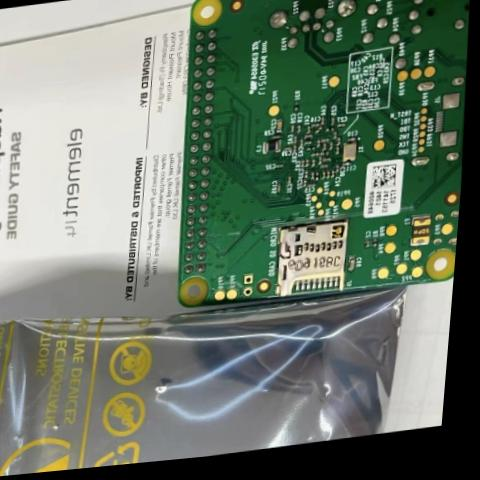Raspberry-Pi-1-Model-A-: (159, 0, 480, 335)
